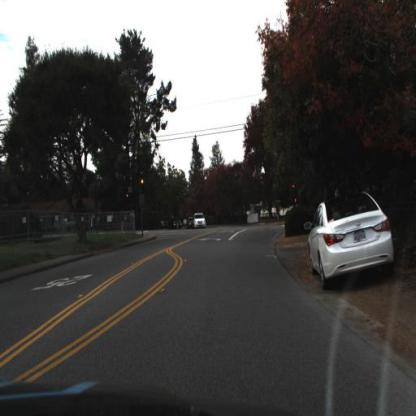car: (305, 182, 397, 299), (192, 211, 206, 234), (171, 217, 185, 233), (186, 214, 196, 232)
trafficLight-Red: (124, 187, 132, 203), (141, 176, 148, 192), (140, 178, 146, 195)
